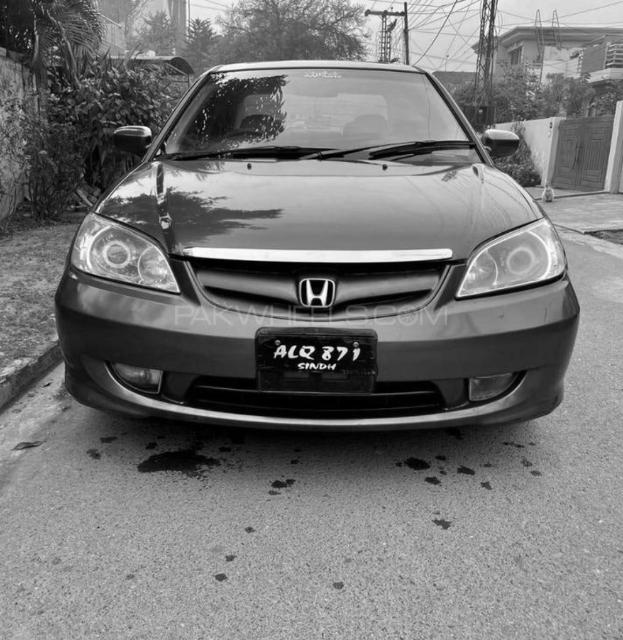Number: (272, 337, 362, 361)
